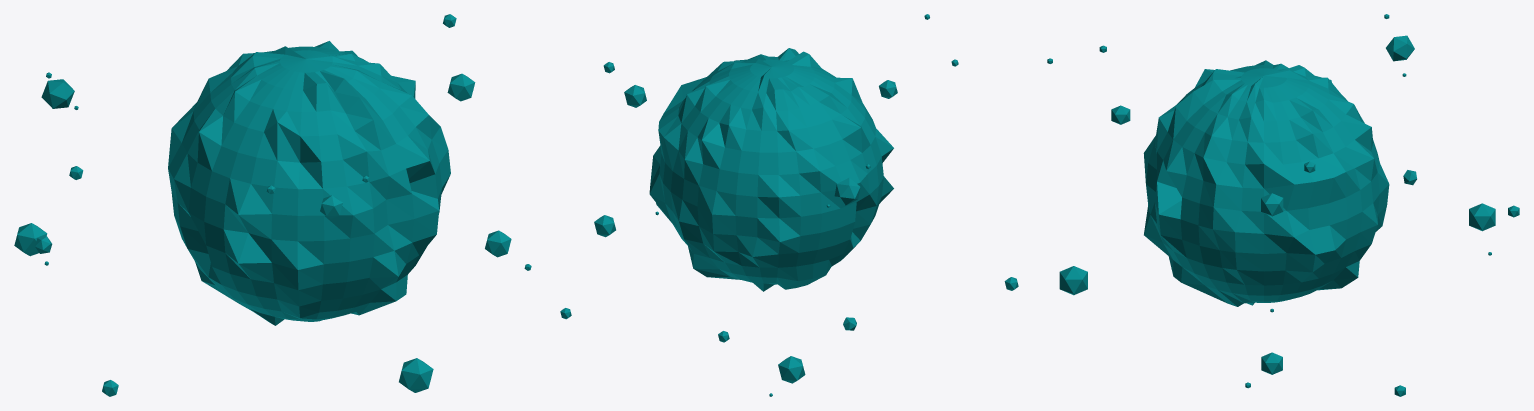
File: 蓝色球.obj
3 renders of one model, left to right at view 1: azimuth 30°, elevation 25°; view 2: azimuth 150°, elevation 25°; view 3: azimuth 270°, elevation 25°, orthographic. The views are drawn at different scales.
Visible parts, largest first — view 1: 球体, 宝石, 宝石.8, 宝石.2, 宝石.4, 宝石.5; view 2: 球体, 宝石.2, 宝石.8; view 3: 球体, 宝石, 宝石.2, 宝石.8, 宝石.4.
Boxes of the visible parts, x1,y1,x2,y2 form: 球体: [168, 41, 450, 325]; 宝石: [399, 358, 433, 392]; 宝石.8: [41, 79, 74, 108]; 宝石.2: [14, 223, 47, 256]; 宝石.4: [447, 73, 475, 101]; 宝石.5: [485, 230, 511, 257]; 球体: [649, 48, 893, 291]; 宝石.2: [778, 356, 805, 383]; 宝石.8: [834, 178, 860, 205]; 球体: [1143, 60, 1389, 306]; 宝石: [1059, 266, 1087, 295]; 宝石.2: [1469, 203, 1495, 231]; 宝石.8: [1386, 35, 1414, 61]; 宝石.4: [1261, 193, 1283, 216].
Bounding box in the file's own units: 436 × 261 × 442.
